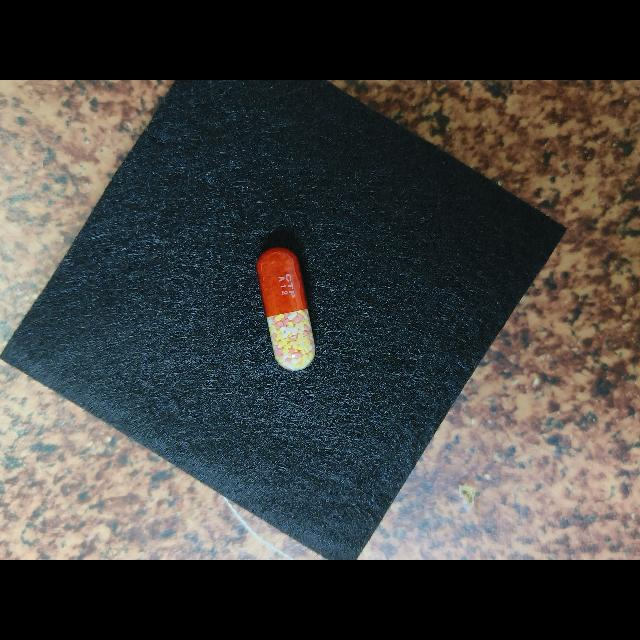Intact Capsule: (256, 247, 315, 370)
